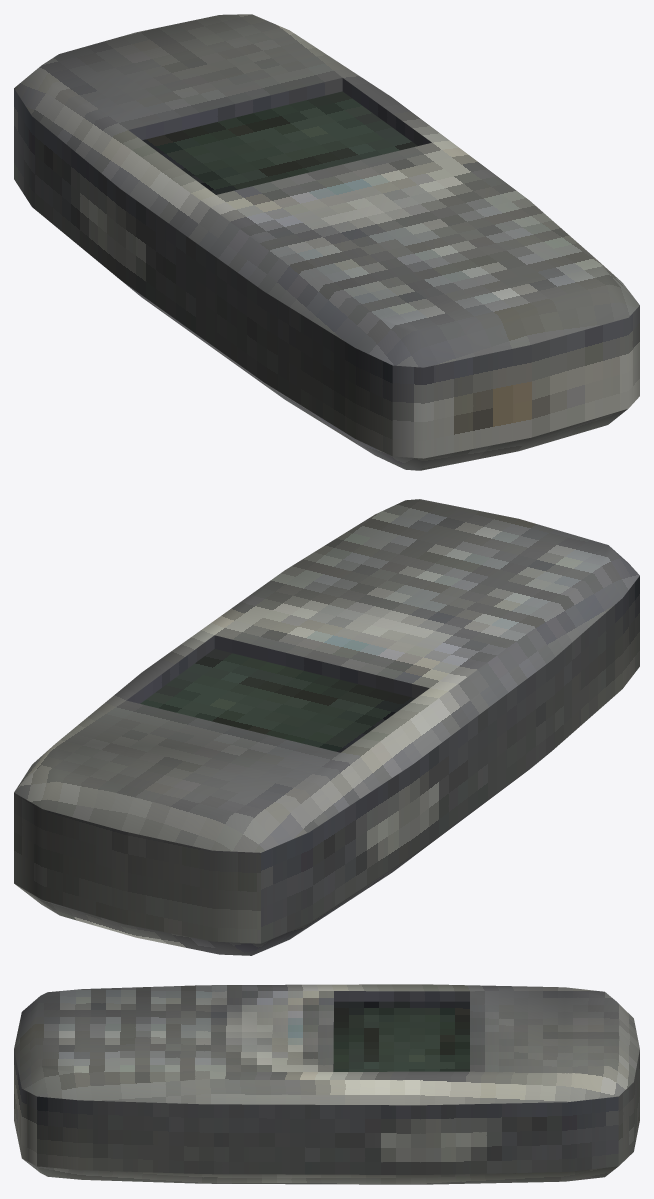
Rendered from CellPhone1.glb.
3 renders of one model, top to bottom at view 1: azimuth 30°, elevation 25°; view 2: azimuth 150°, elevation 25°; view 3: azimuth 270°, elevation 25°, orthographic. The views are drawn at different scales.
Parts seen in each view (by area): view 1: cell_phone_1; view 2: cell_phone_1; view 3: cell_phone_1.
Part boxes in pixels (<box>): cell_phone_1: <box>14,14,639,470</box>; cell_phone_1: <box>14,499,639,955</box>; cell_phone_1: <box>14,984,639,1184</box>.
Bounding box in the file's own units: 0.0877 × 0.0396 × 0.2106.
Materials: 1 (1 with a texture image).
